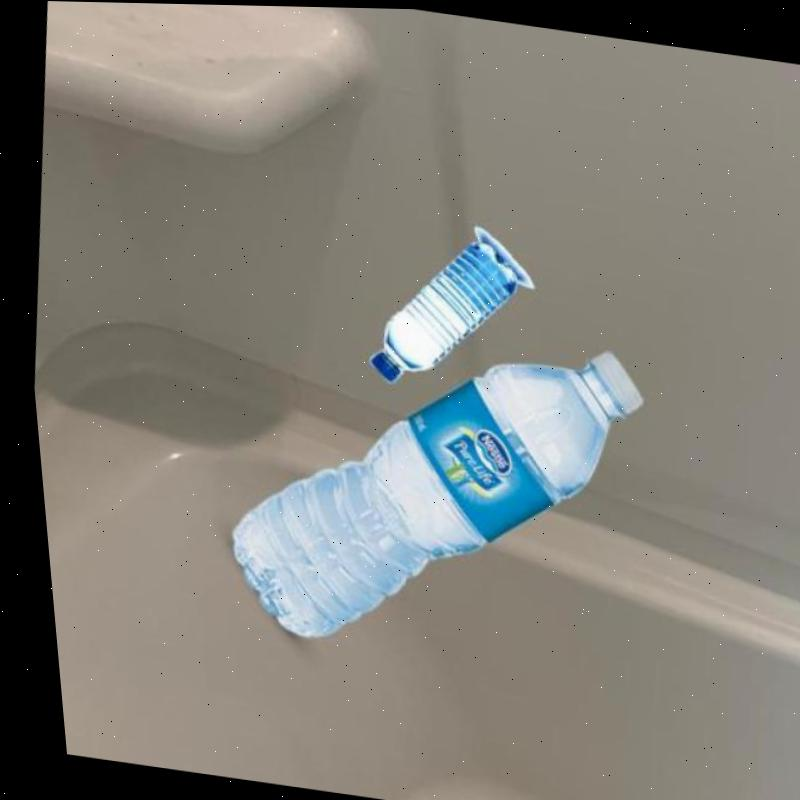botella: (189, 295, 664, 680), (350, 221, 522, 394)
